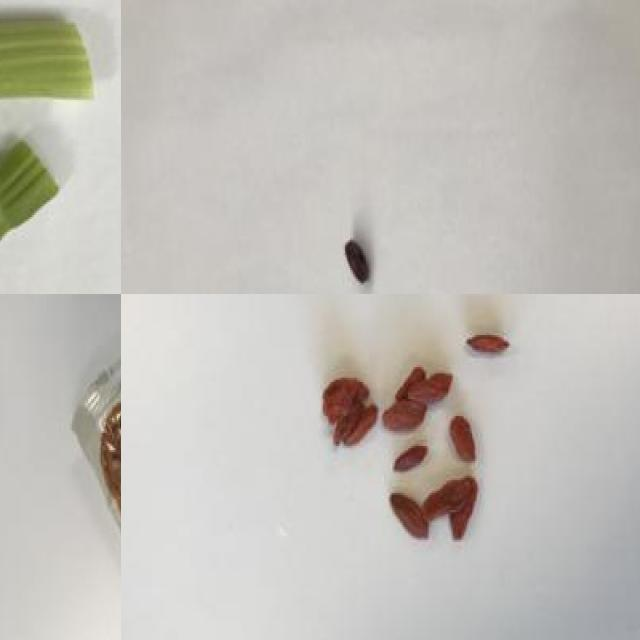compost: (301, 294, 553, 580), (0, 0, 121, 294), (332, 215, 381, 294)
trash: (53, 296, 121, 640)
